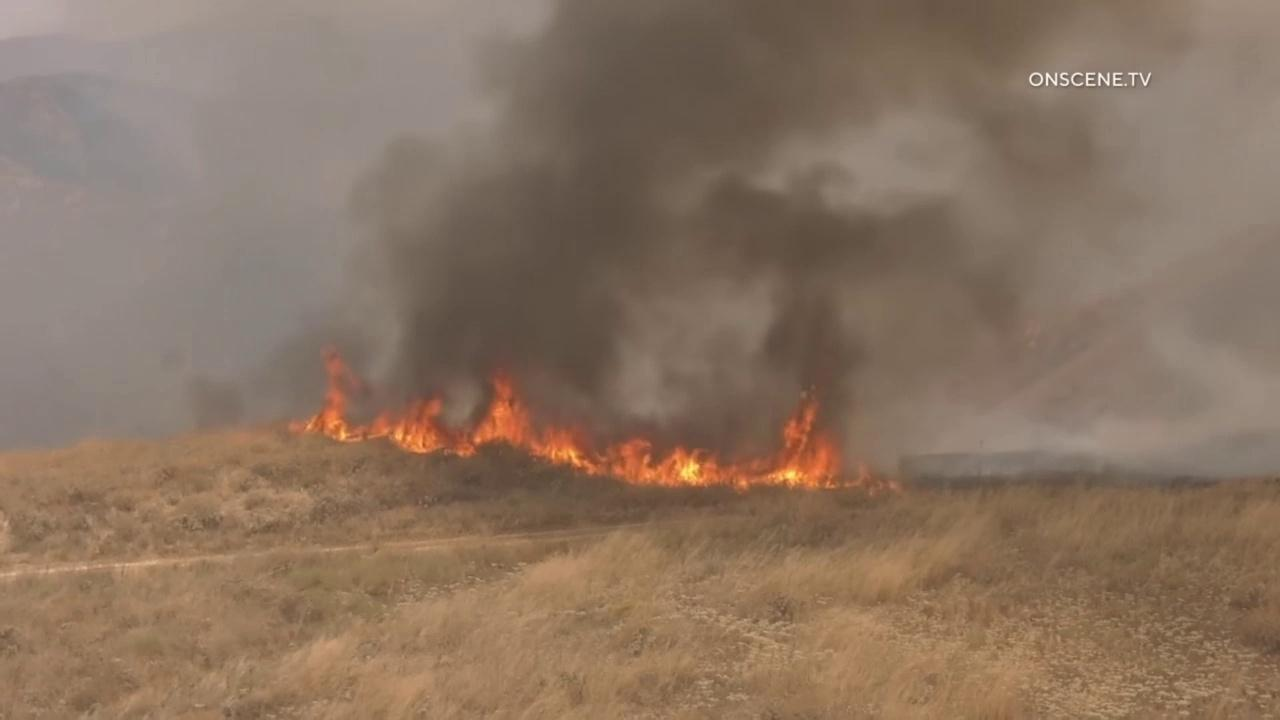fire: (286, 341, 841, 489), (844, 463, 898, 497)
smoke: (0, 0, 1280, 480)
